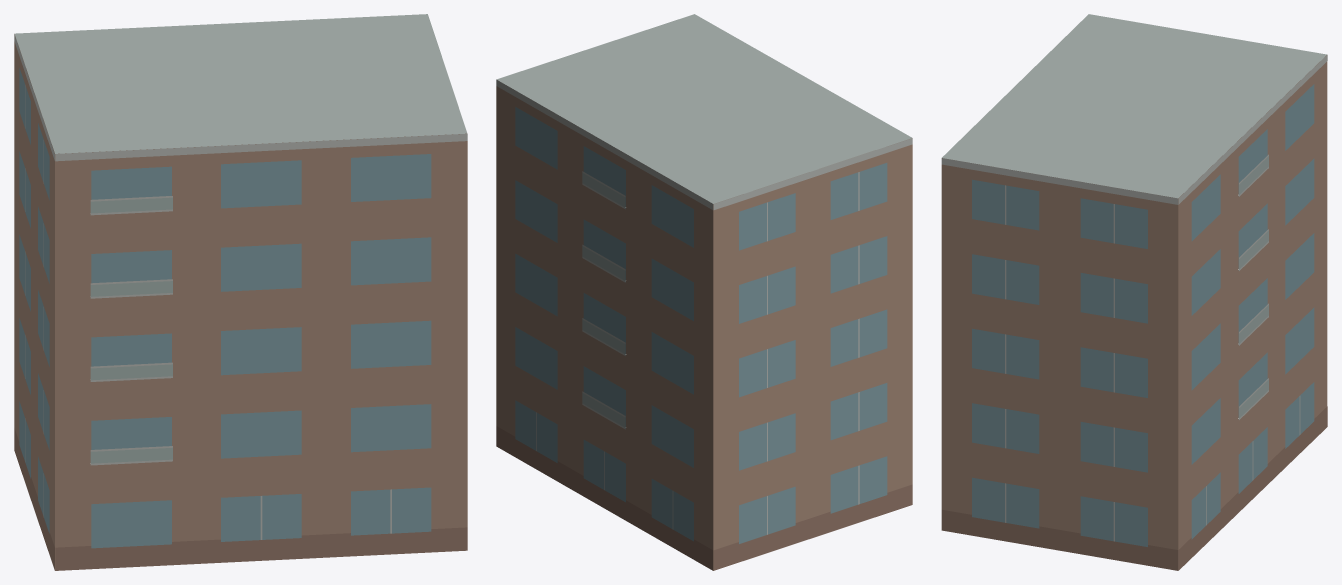
Rendered from survey-upis-32947162.glb.
3 views of the same model, side by side, from view 1: azimuth 30°, elevation 25°; view 2: azimuth 150°, elevation 25°; view 3: azimuth 270°, elevation 25° (orthographic). The views are drawn at different scales.
Parts seen in each view (by area): view 1: survey-upis-32947162.tmp; view 2: survey-upis-32947162.tmp; view 3: survey-upis-32947162.tmp.
Part boxes in pixels (bbox=[...]): survey-upis-32947162.tmp: bbox=[14, 14, 467, 570]; survey-upis-32947162.tmp: bbox=[496, 14, 912, 570]; survey-upis-32947162.tmp: bbox=[941, 14, 1327, 570].
Size of the model in its own units: 14.66 by 13.8 by 12.96.
